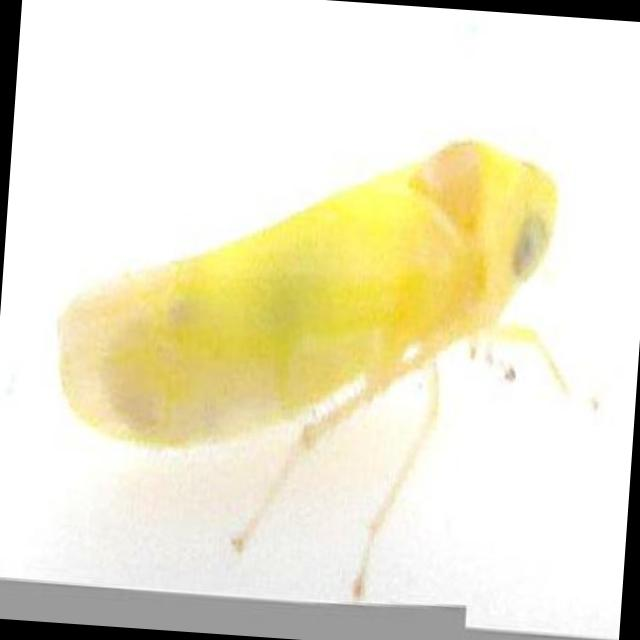green-leafhopper: (51, 109, 564, 472)
